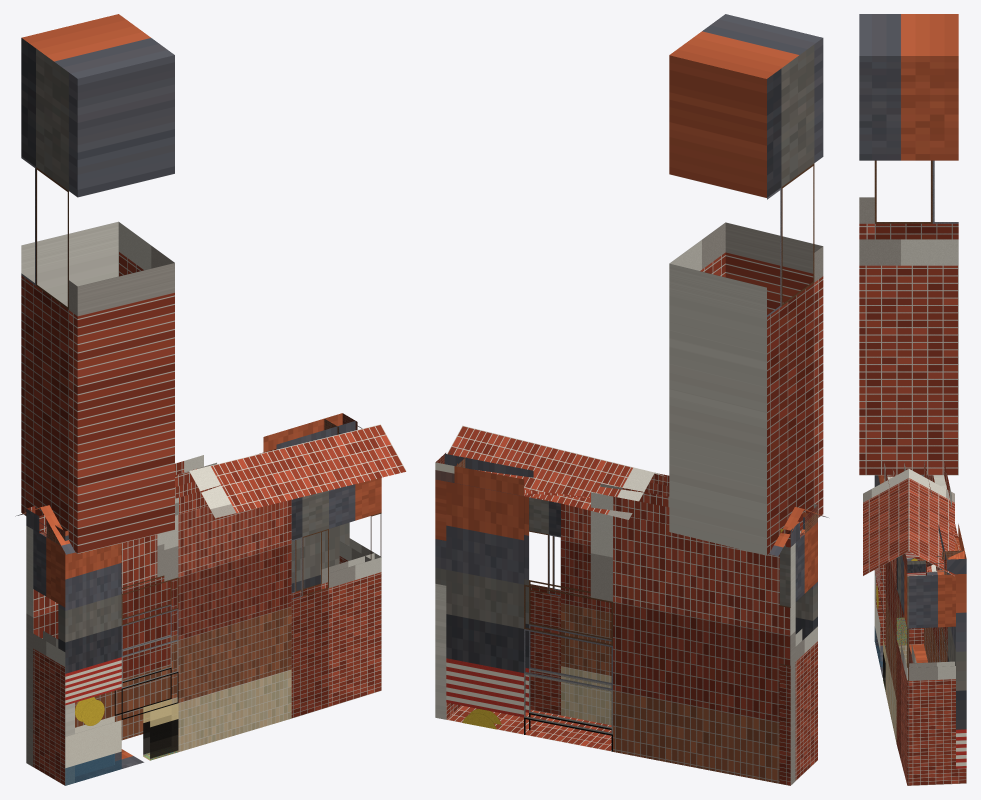
3 renders of one model, left to right at view 1: azimuth 30°, elevation 25°; view 2: azimuth 150°, elevation 25°; view 3: azimuth 270°, elevation 25°, orthographic. The views are drawn at different scales.
Visible parts, largest first — view 1: 238536136__chimney_0_xb, 238536136__wall_0_xb, 238536136__wall_1_xb, 238536136__wall_3_xb, 238536136_roof_-1_xb, 238536136__wall_4_xb, 238536136__wall_0_xf, 238536136__cornice_3, 238536136__cornice_0, 238536136__wall_2_xb; view 2: 238536136__chimney_0_xb, 238536136__wall_3_xb, 238536136__wall_0_xb, 238536136_roof_1_xb, 238536136__wall_4_xb, 238536136__wall_1_xb, 238536136__cornice_3, 238536136__base, 238536136__wall_2_xb; view 3: 238536136__chimney_0_xb, 238536136__wall_2_xb, 238536136_roof_-1_xb, 238536136_roof_1_xb, 238536136__wall_3_xb, 238536136__wall_0_xb, 238536136__wall_1_xb, 238536136__wall_4_xb, 238536136__cornice_3, 238536136__cornice_2, 238536136__wall_0_xf, 238536136__base.
Boxes of the visible parts, x1=… form: 238536136__chimney_0_xb: x1=21, y1=14, x2=174, y2=553; 238536136__wall_0_xb: x1=58, y1=499, x2=291, y2=785; 238536136__wall_1_xb: x1=291, y1=478, x2=381, y2=718; 238536136__wall_3_xb: x1=26, y1=522, x2=349, y2=766; 238536136_roof_-1_xb: x1=40, y1=424, x2=406, y2=554; 238536136__wall_4_xb: x1=33, y1=530, x2=74, y2=785; 238536136__wall_0_xf: x1=65, y1=699, x2=177, y2=785; 238536136__cornice_3: x1=26, y1=413, x2=355, y2=532; 238536136__cornice_0: x1=55, y1=481, x2=225, y2=540; 238536136__wall_2_xb: x1=339, y1=512, x2=381, y2=563; 238536136__chimney_0_xb: x1=669, y1=14, x2=823, y2=555; 238536136__wall_3_xb: x1=435, y1=481, x2=795, y2=785; 238536136__wall_0_xb: x1=560, y1=503, x2=817, y2=725; 238536136_roof_1_xb: x1=447, y1=425, x2=804, y2=556; 238536136__wall_4_xb: x1=779, y1=522, x2=817, y2=785; 238536136__wall_1_xb: x1=529, y1=497, x2=560, y2=715; 238536136__cornice_3: x1=435, y1=454, x2=799, y2=547; 238536136__base: x1=446, y1=705, x2=611, y2=751; 238536136__wall_2_xb: x1=435, y1=479, x2=461, y2=719; 238536136__chimney_0_xb: x1=859, y1=14, x2=958, y2=475; 238536136__wall_2_xb: x1=906, y1=570, x2=966, y2=785; 238536136_roof_-1_xb: x1=863, y1=469, x2=908, y2=575; 238536136_roof_1_xb: x1=909, y1=469, x2=954, y2=575; 238536136__wall_3_xb: x1=924, y1=475, x2=966, y2=768; 238536136__wall_0_xb: x1=874, y1=475, x2=906, y2=743; 238536136__wall_1_xb: x1=896, y1=555, x2=917, y2=784; 238536136__wall_4_xb: x1=874, y1=475, x2=923, y2=645; 238536136__cornice_3: x1=924, y1=461, x2=966, y2=574; 238536136__cornice_2: x1=905, y1=550, x2=964, y2=576; 238536136__wall_0_xf: x1=875, y1=618, x2=906, y2=689; 238536136__base: x1=876, y1=644, x2=927, y2=677.
Bounding box in the file's own units: 0.5253 × 1.05 × 0.1622.
1 material, 1 textured.
